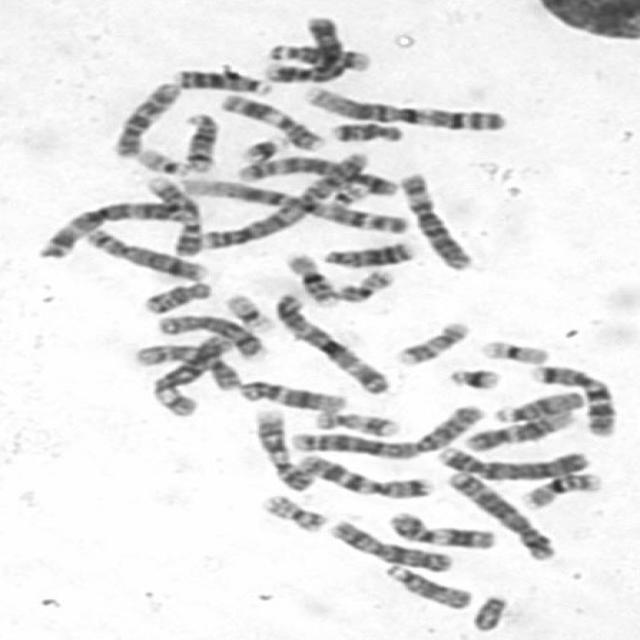A1: (176, 174, 414, 236), (296, 82, 508, 133)
A2: (193, 147, 378, 251), (288, 398, 488, 461)
A3: (266, 286, 394, 396), (33, 197, 193, 261)
B4: (258, 10, 348, 84), (431, 441, 591, 481)
B5: (439, 467, 558, 562), (232, 153, 399, 198)
C10: (107, 76, 185, 160), (127, 339, 240, 392)
C11: (216, 91, 326, 152), (381, 508, 501, 552)
C12: (458, 406, 574, 452), (232, 374, 348, 413)
C6: (394, 168, 475, 272), (145, 330, 236, 418)
C7: (524, 358, 623, 438), (289, 448, 435, 501)
C8: (80, 224, 211, 283), (149, 311, 269, 361)
C9: (248, 404, 315, 492), (139, 172, 207, 258)
D13: (170, 64, 275, 96), (320, 238, 420, 269)
D14: (265, 40, 375, 74), (179, 108, 222, 173)
D15: (378, 559, 477, 611), (488, 386, 586, 424)
E16: (516, 466, 604, 512), (281, 248, 342, 307)
E17: (389, 316, 474, 367), (308, 404, 408, 438)
E18: (136, 276, 216, 314), (324, 117, 406, 144)
F19: (474, 334, 554, 365), (219, 290, 275, 334)
F20: (255, 489, 329, 533), (332, 264, 398, 303)
G21: (442, 362, 506, 392), (234, 132, 290, 164)
G22: (130, 144, 192, 177), (324, 182, 368, 210)
X: (324, 515, 456, 573)
Y: (467, 590, 511, 632)
